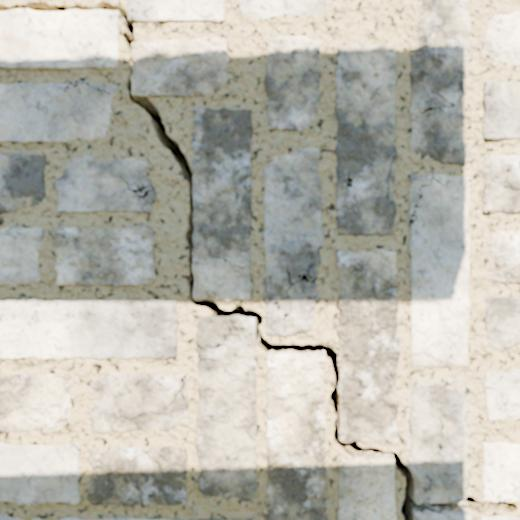brick: (337, 249, 399, 442), (191, 109, 252, 301), (335, 44, 396, 235), (410, 175, 470, 366), (196, 316, 256, 501), (263, 148, 322, 335), (0, 299, 177, 359), (265, 353, 326, 519), (410, 0, 470, 164), (0, 10, 118, 69), (0, 83, 117, 142), (54, 226, 155, 285), (91, 372, 188, 432), (88, 446, 186, 505), (132, 37, 228, 96), (55, 156, 155, 212), (265, 34, 320, 130), (0, 443, 79, 505), (0, 372, 71, 432), (337, 458, 395, 519), (0, 153, 45, 212), (0, 227, 43, 285), (481, 442, 519, 500), (482, 81, 519, 139), (127, 0, 224, 22), (482, 156, 519, 212), (482, 11, 519, 65), (485, 297, 519, 350), (483, 370, 519, 420), (239, 0, 325, 19), (489, 230, 519, 284), (408, 175, 430, 217), (481, 516, 519, 519), (0, 514, 20, 519), (105, 518, 137, 519), (61, 518, 80, 519)
broken_brick: (408, 382, 466, 502), (415, 510, 470, 519)
crack: (0, 0, 519, 519), (272, 264, 317, 322), (408, 174, 452, 227), (118, 173, 154, 201), (197, 327, 241, 349), (197, 353, 236, 377), (165, 373, 188, 410), (63, 80, 110, 95), (211, 255, 250, 269), (386, 154, 396, 199), (504, 399, 512, 418), (73, 443, 81, 451), (518, 160, 519, 170)
